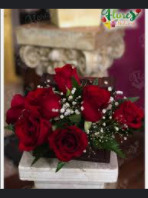RedRose: (11, 107, 50, 152), (49, 124, 91, 164), (29, 86, 63, 116), (81, 86, 108, 122), (116, 92, 144, 125), (50, 67, 82, 88)
